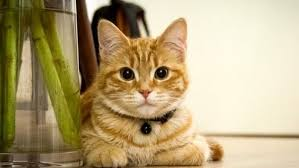cat: (83, 12, 209, 121)
